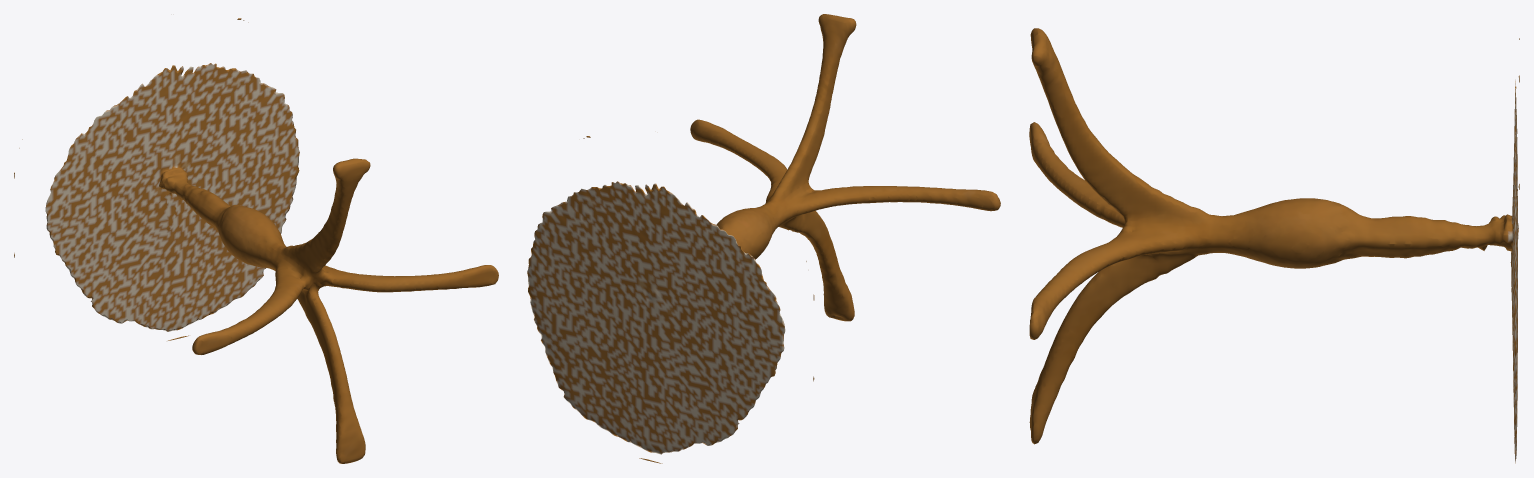
Rendered from A round wooden table with a circular top and four .glb.
3 views of the same model, side by side, from view 1: azimuth 30°, elevation 25°; view 2: azimuth 150°, elevation 25°; view 3: azimuth 270°, elevation 25° (orthographic). The views are drawn at different scales.
Visible parts, largest first — view 1: A round wooden table with a circular top and four; view 2: A round wooden table with a circular top and four; view 3: A round wooden table with a circular top and four.
Boxes of the visible parts, x1=… form: A round wooden table with a circular top and four: x1=14, y1=18, x2=498, y2=463; A round wooden table with a circular top and four: x1=527, y1=14, x2=1000, y2=463; A round wooden table with a circular top and four: x1=1029, y1=28, x2=1519, y2=463.
Bounding box in the file's own units: 0.9688 × 0.9891 × 1.01.
